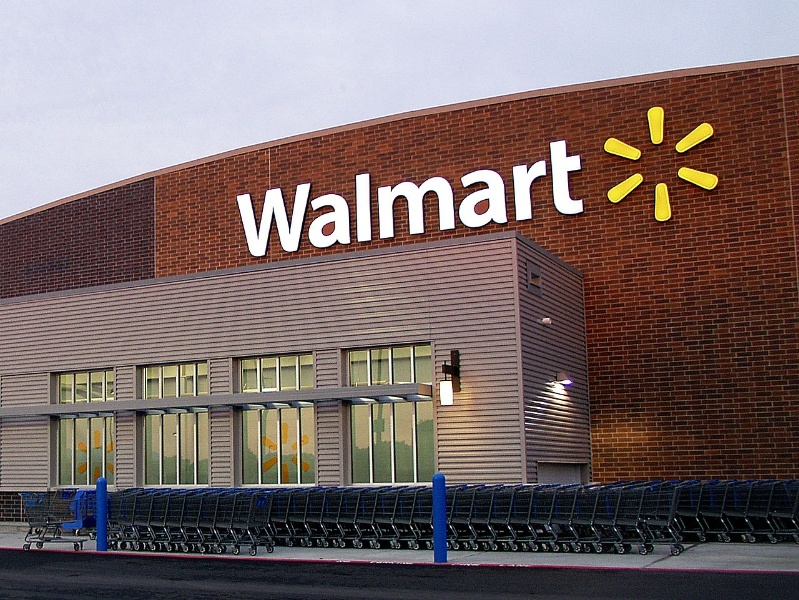text: (241, 134, 256, 258), (257, 134, 272, 258), (273, 134, 288, 258), (289, 134, 304, 258), (305, 134, 320, 258), (321, 134, 336, 258), (337, 134, 352, 258), (353, 134, 368, 258), (369, 134, 384, 258), (385, 134, 400, 258), (401, 134, 416, 258), (417, 134, 432, 258), (433, 134, 448, 258), (449, 134, 464, 258), (465, 134, 480, 258), (481, 134, 496, 258), (497, 134, 512, 258), (513, 134, 528, 258), (529, 134, 544, 258), (545, 134, 560, 258), (561, 134, 576, 258), (577, 134, 585, 258), (233, 134, 240, 258)
